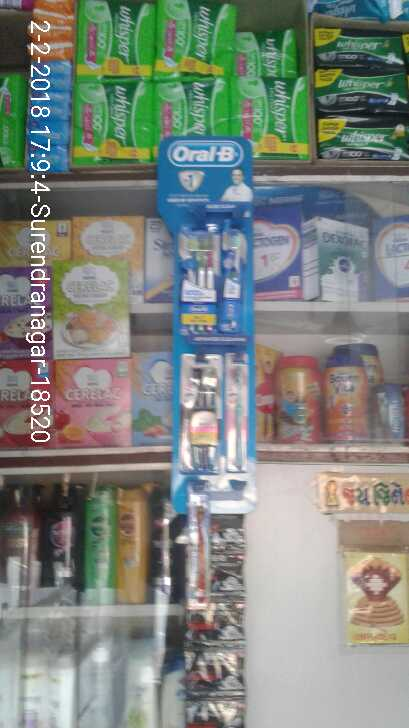whisper: (72, 81, 155, 168), (159, 80, 239, 161), (239, 77, 308, 159), (77, 3, 153, 77), (157, 4, 234, 76), (319, 115, 409, 160), (313, 68, 409, 110), (313, 27, 409, 65)
